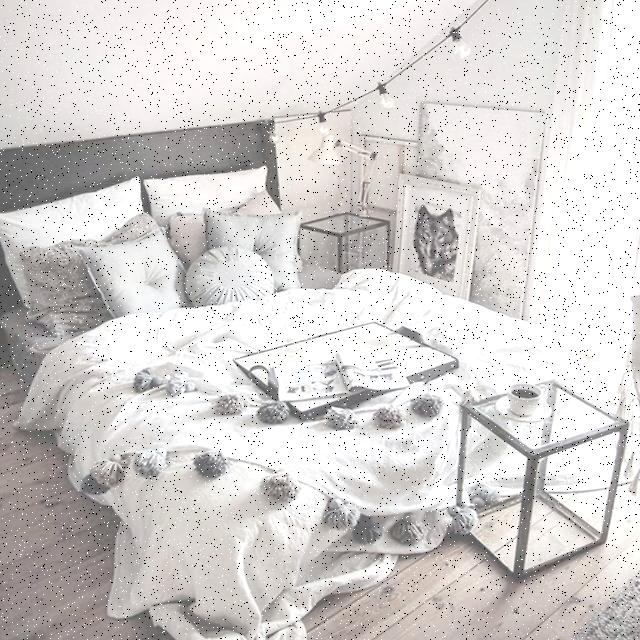bed: (56, 253, 572, 543)
